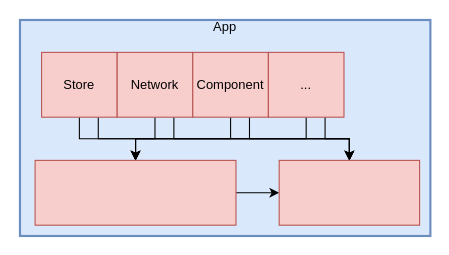
This 449x255 diagram has some shape labels left out. The shapes that lost their labels are listed below. From the top down, each one's centre as x and y in pixels, then its label:
At pixel 135 192: "ProtocolLibrary".
At pixel 349 192: "ComponentsHub".
